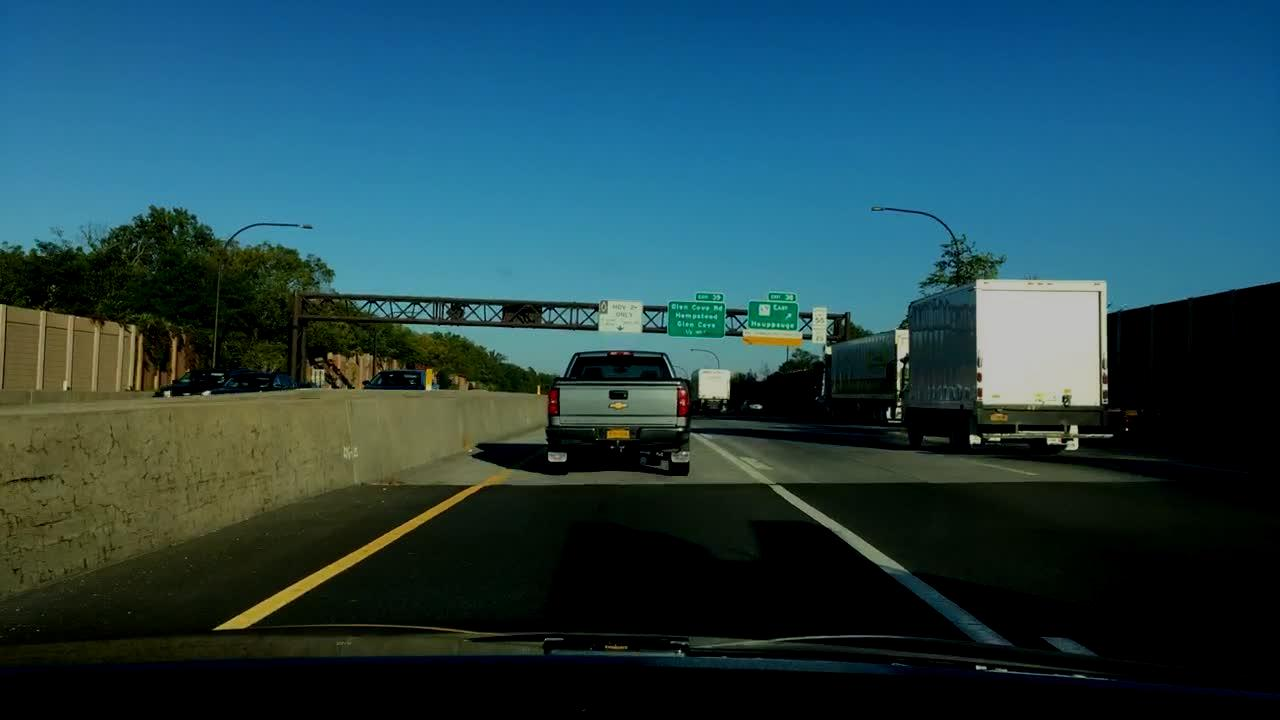chevrolet: (605, 401, 635, 414)
